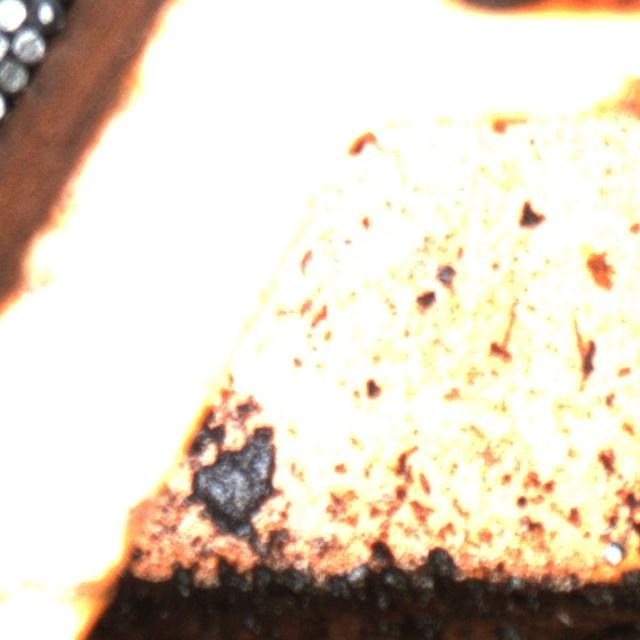tool: (12, 26, 46, 61), (0, 56, 29, 90), (28, 0, 62, 27), (0, 0, 26, 29)
